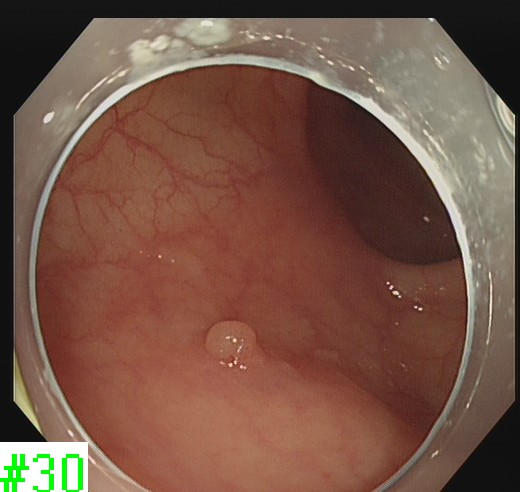adenoma: (200, 317, 263, 364)
